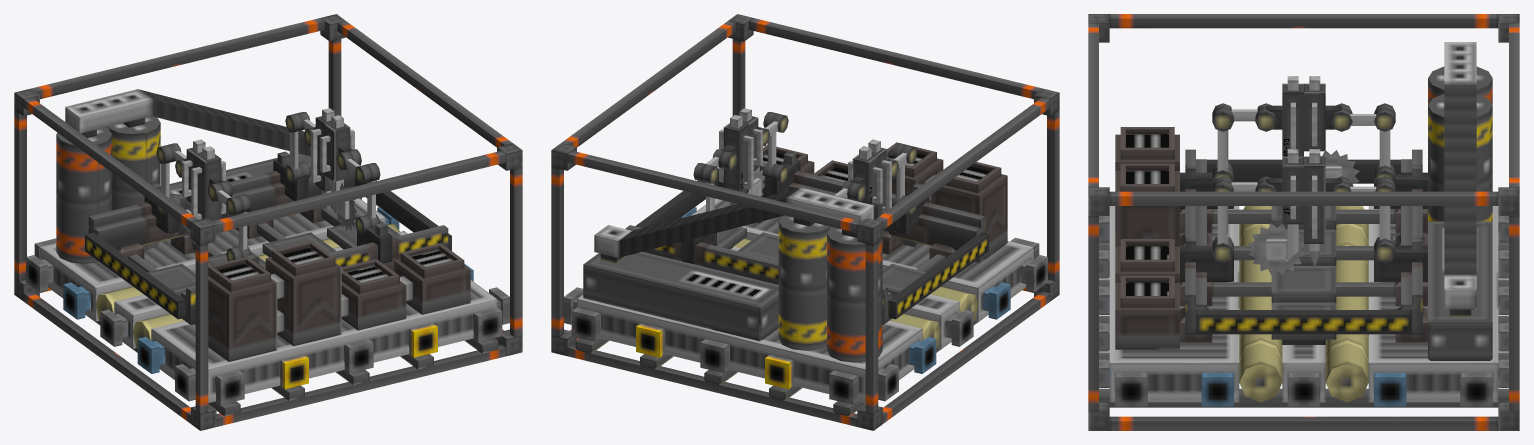
The model's file is assembly_factory.obj.
3 renders of one model, left to right at view 1: azimuth 30°, elevation 25°; view 2: azimuth 150°, elevation 25°; view 3: azimuth 270°, elevation 25°, orthographic. The views are drawn at different scales.
Parts seen in each view (by area): view 1: Base, Frame, Head3, Head2, Slider2, Head1, Slider1, ArmLower1, Head4, Slider4, ArmLower4, ArmUpper3 (+2 smaller); view 2: Base, Frame, Head1, Head4, Slider2, Head3, Slider3, Head2, Slider1, ArmLower2; view 3: Base, Frame, Head3, Slider1, Head1, Head4, Slider2, Head2, Blade2, ArmLower3, ArmUpper4, Striker2 (+8 smaller).
Part boxes in pixels (left/top/right/bottom): Base: left=14, top=89, right=522, bottom=430; Frame: left=14, top=14, right=522, bottom=413; Head3: left=191, top=154, right=232, bottom=221; Head2: left=320, top=123, right=361, bottom=181; Slider2: left=355, top=215, right=392, bottom=263; Head1: left=304, top=116, right=331, bottom=191; Slider1: left=273, top=151, right=310, bottom=200; ArmLower1: left=285, top=114, right=302, bottom=183; Head4: left=175, top=147, right=202, bottom=202; Slider4: left=144, top=183, right=181, bottom=234; ArmLower4: left=156, top=145, right=173, bottom=214; ArmUpper3: left=207, top=183, right=243, bottom=214; Base: left=551, top=142, right=1059, bottom=430; Frame: left=551, top=14, right=1059, bottom=413; Head1: left=719, top=123, right=753, bottom=193; Head4: left=848, top=154, right=882, bottom=208; Slider2: left=765, top=151, right=800, bottom=196; Head3: left=871, top=147, right=891, bottom=219; Slider3: left=894, top=183, right=929, bottom=234; Head2: left=742, top=116, right=762, bottom=171; Slider1: left=681, top=213, right=716, bottom=263; ArmLower2: left=763, top=112, right=778, bottom=178; Base: left=1088, top=42, right=1519, bottom=430; Frame: left=1088, top=14, right=1519, bottom=411; Head3: left=1255, top=83, right=1303, bottom=156; Slider1: left=1374, top=237, right=1427, bottom=281; Head1: left=1304, top=156, right=1352, bottom=243; Head4: left=1304, top=83, right=1352, bottom=151; Slider2: left=1180, top=237, right=1233, bottom=281; Head2: left=1255, top=156, right=1303, bottom=224; Blade2: left=1248, top=223, right=1305, bottom=275; ArmLower3: left=1212, top=108, right=1233, bottom=182; ArmUpper4: left=1331, top=108, right=1395, bottom=131; Striker2: left=1266, top=149, right=1298, bottom=261.
Bounding box in the file's own units: 5 × 3 × 5.
